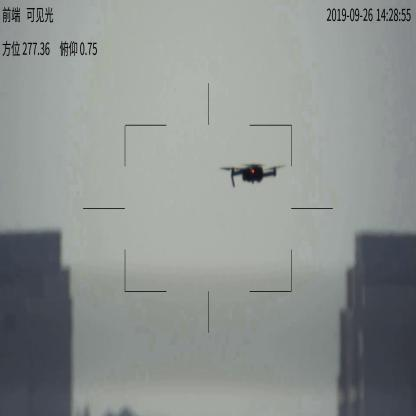uav: (228, 162, 288, 186)
